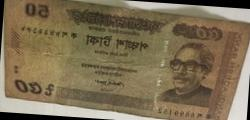50 taka: (6, 1, 226, 118)
